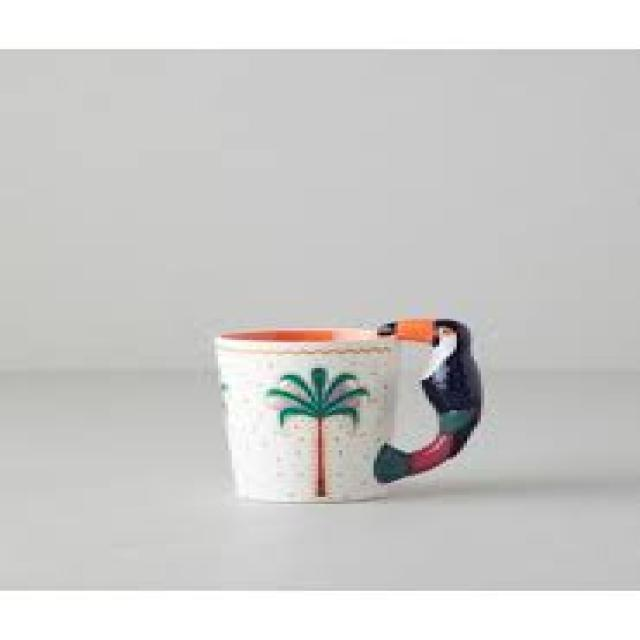taza: (216, 316, 484, 506)
